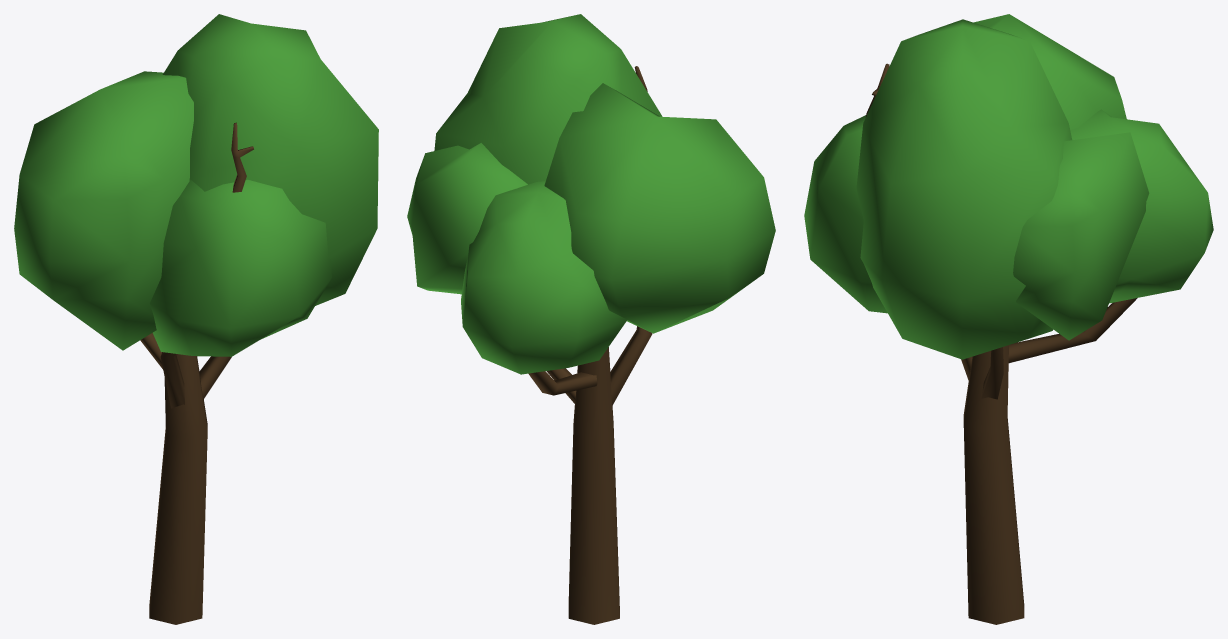
File: Tree6.fbx
The picture shows the model from 3 angles, left to right: view 1: azimuth 30°, elevation 25°; view 2: azimuth 150°, elevation 25°; view 3: azimuth 270°, elevation 25°; orthographic projection. The views are drawn at different scales.
Visible parts, largest first — view 1: Tree_temp_climate_007; view 2: Tree_temp_climate_007; view 3: Tree_temp_climate_007.
Part boxes in pixels (left/top/right/bottom): Tree_temp_climate_007: left=14, top=14, right=378, bottom=624; Tree_temp_climate_007: left=407, top=14, right=775, bottom=624; Tree_temp_climate_007: left=804, top=14, right=1213, bottom=624.
Size of the model in its own units: 575 by 970 by 585.
